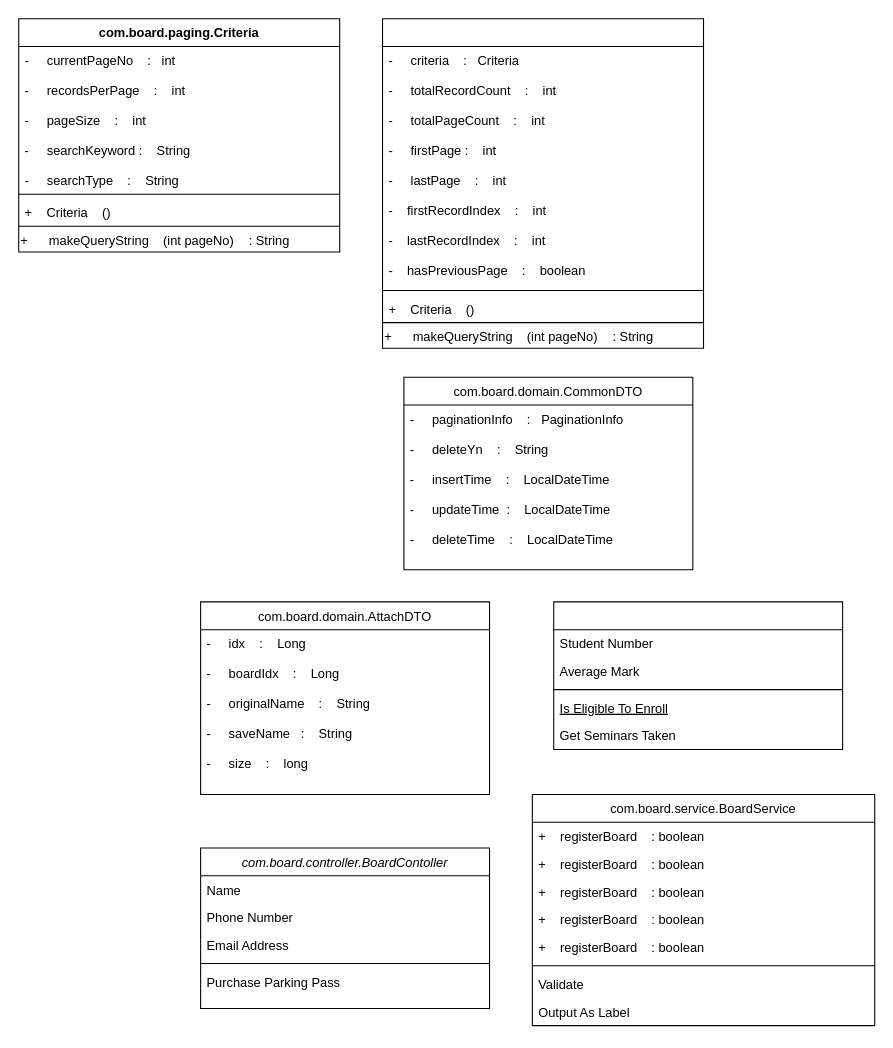
The diagram is 893 pixels wide and 1048 high, and some of its shapes have lost their labels. The box of each missing label's shape, as (x1, y1, x2, y2) in pixels:
com.board.domain.BoardDTO: (553, 601, 843, 750)
com.board.paging.PaginationInfo: (381, 18, 704, 348)
